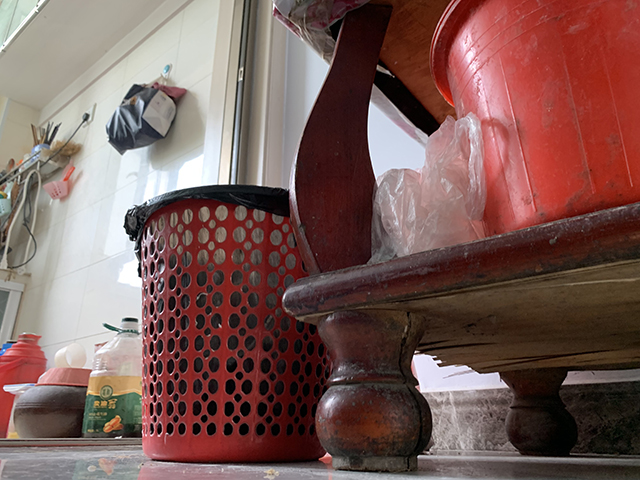table: (271, 1, 640, 475)
trashcan: (122, 182, 336, 463)
